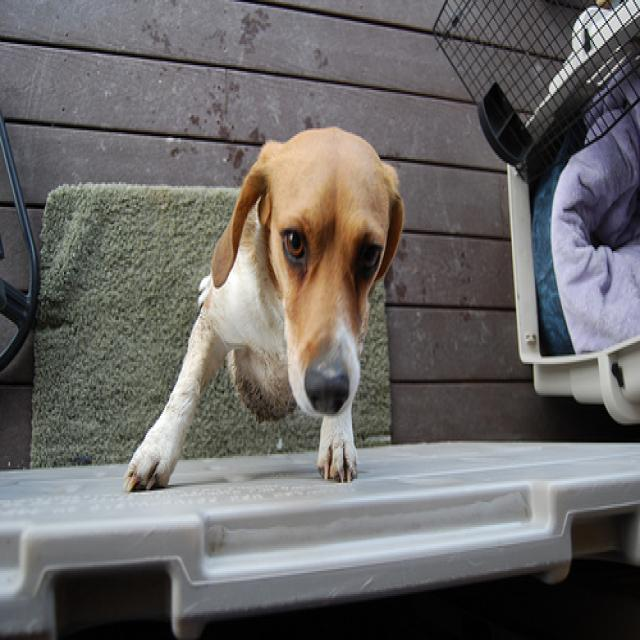dog-beagle: (113, 107, 415, 496)
